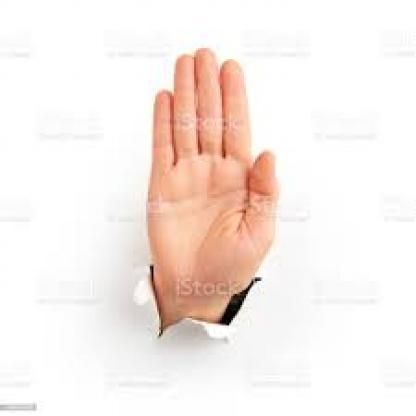stop: (143, 42, 298, 304)
